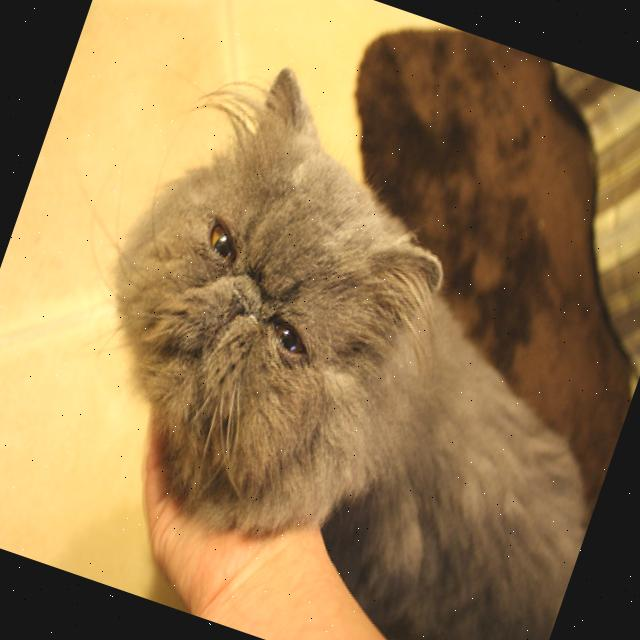cat-eye: (252, 304, 331, 378), (186, 208, 248, 275)
